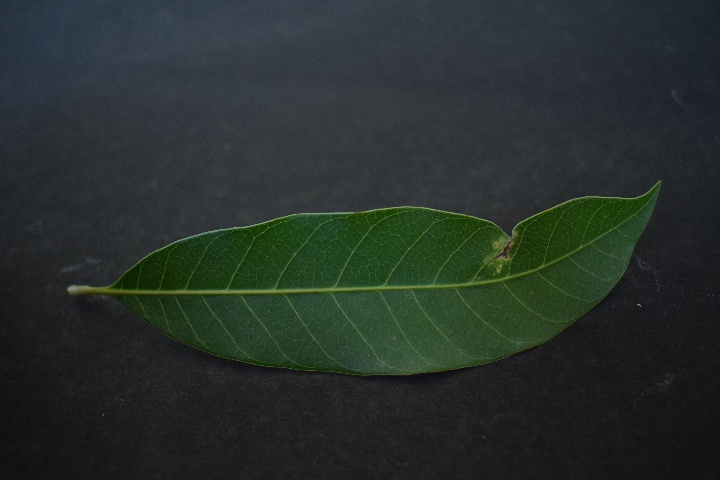healthy: (119, 181, 654, 375)
